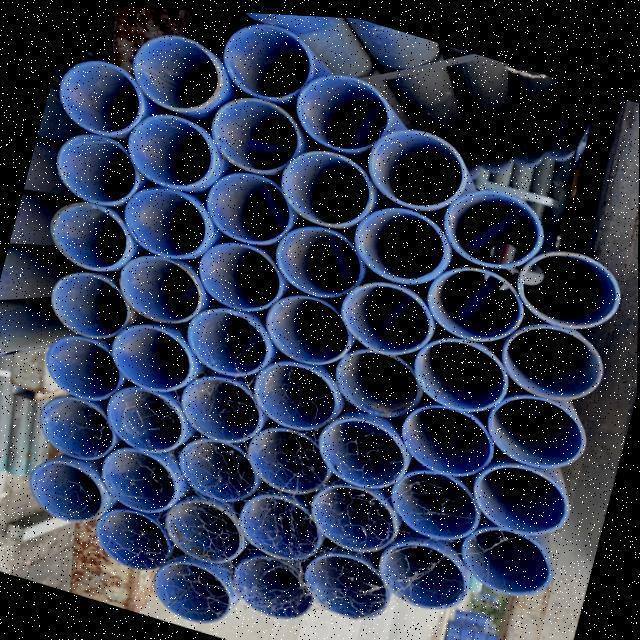pipe: (439, 172, 541, 265), (496, 303, 598, 394), (294, 55, 390, 150), (364, 118, 465, 207), (511, 242, 617, 324), (482, 383, 582, 462), (457, 508, 549, 591), (410, 331, 507, 409), (398, 391, 491, 472), (277, 144, 370, 225), (314, 405, 404, 487), (218, 20, 311, 99), (467, 454, 567, 527), (351, 199, 443, 278), (424, 259, 521, 333), (340, 273, 432, 350), (207, 93, 297, 171), (274, 217, 361, 295), (332, 341, 420, 418), (200, 162, 288, 239), (123, 106, 212, 182), (180, 295, 266, 373), (263, 288, 350, 364), (130, 32, 218, 107), (57, 56, 142, 133), (304, 471, 393, 544), (386, 460, 474, 532), (376, 532, 465, 603), (120, 179, 203, 255), (192, 234, 279, 306), (251, 351, 334, 426), (303, 546, 390, 616), (109, 320, 193, 392), (52, 128, 132, 203), (241, 422, 329, 490), (115, 245, 198, 317), (48, 269, 127, 343), (173, 368, 255, 438), (104, 383, 186, 453), (48, 198, 127, 270), (96, 438, 176, 509), (234, 488, 317, 555), (173, 431, 253, 498), (37, 390, 112, 461), (148, 556, 232, 619), (163, 496, 244, 561), (44, 331, 122, 397), (230, 551, 309, 616), (23, 454, 99, 519), (91, 501, 169, 564)
